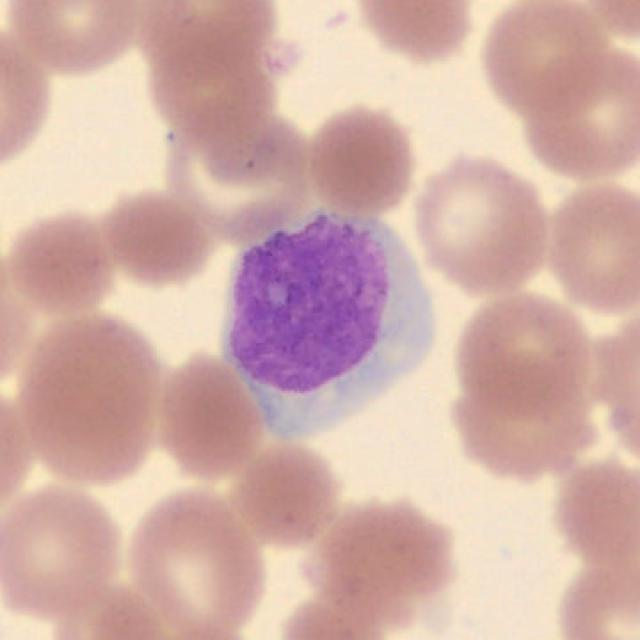Linfocito: (222, 212, 434, 441)
